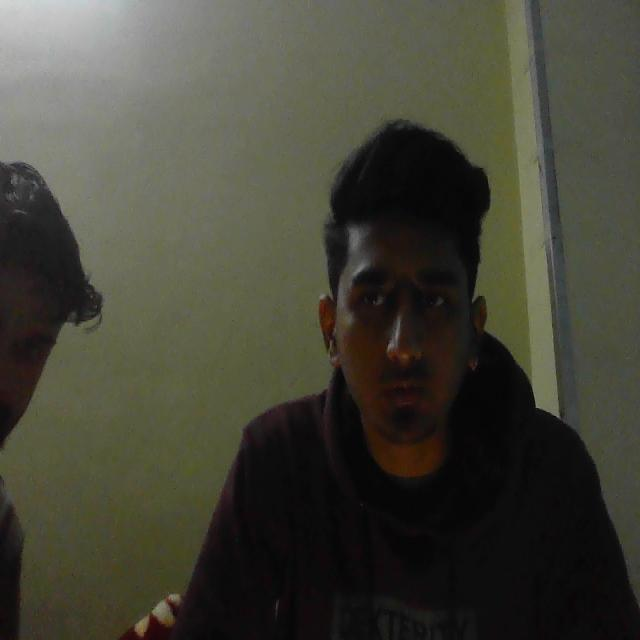real: (319, 132, 500, 473)
